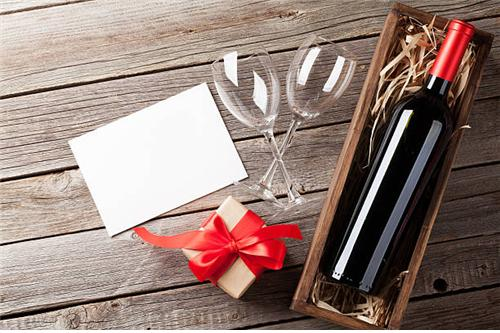alcohol: (312, 19, 477, 301)
